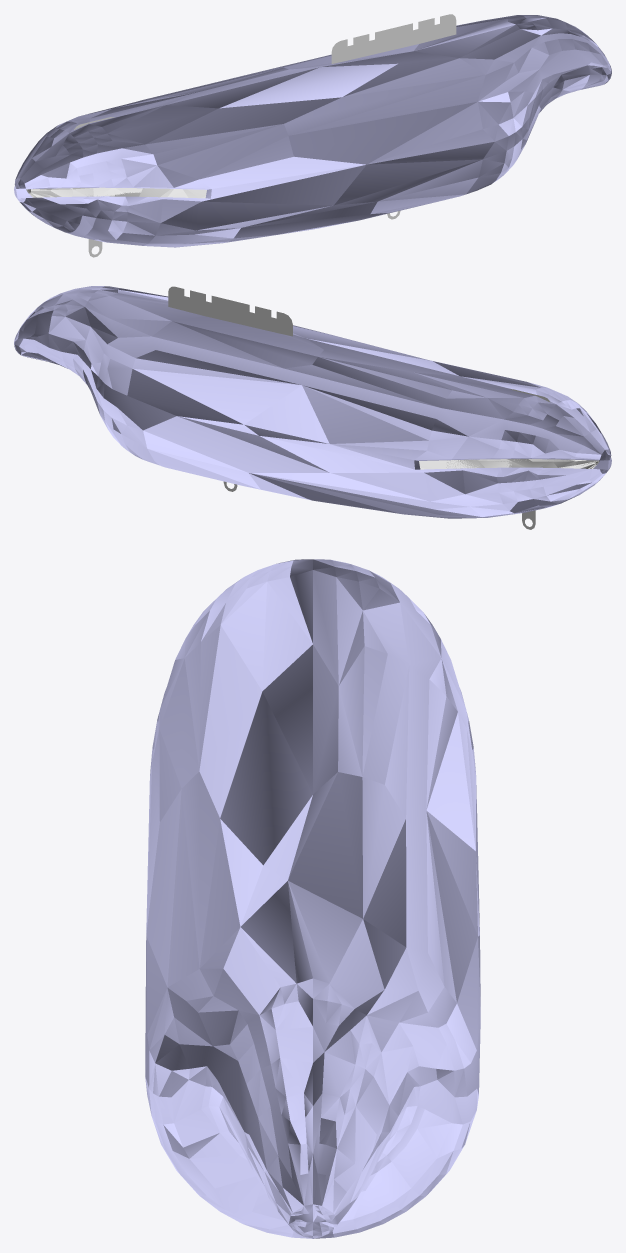
The model's file is fuselage3.DAE.
The picture shows the model from 3 angles, top to bottom: view 1: azimuth 30°, elevation 25°; view 2: azimuth 150°, elevation 25°; view 3: azimuth 270°, elevation 25°; orthographic projection. The views are drawn at different scales.
Visible parts, largest first — view 1: FBXASC230FBXASC156FBXASC186FBXASC232FBXASC186FBXASC171, Surface.1, Join.3, Multi-sectionsFBXASC032Surface.3; view 2: FBXASC230FBXASC156FBXASC186FBXASC232FBXASC186FBXASC171, Surface.1, Multi-sectionsFBXASC032Surface.3, Join.3; view 3: FBXASC230FBXASC156FBXASC186FBXASC232FBXASC186FBXASC171.
Boxes of the visible parts, <box> form: FBXASC230FBXASC156FBXASC186FBXASC232FBXASC186FBXASC171: <box>14,15,611,247</box>; Surface.1: <box>74,14,456,257</box>; Join.3: <box>29,187,188,197</box>; Multi-sectionsFBXASC032Surface.3: <box>30,188,206,198</box>; FBXASC230FBXASC156FBXASC186FBXASC232FBXASC186FBXASC171: <box>14,286,611,518</box>; Surface.1: <box>168,286,549,529</box>; Multi-sectionsFBXASC032Surface.3: <box>419,459,595,469</box>; Join.3: <box>420,459,596,469</box>; FBXASC230FBXASC156FBXASC186FBXASC232FBXASC186FBXASC171: <box>145,559,480,1238</box>.
Bounding box in the file's own units: 0.438 × 0.1072 × 0.1348.
